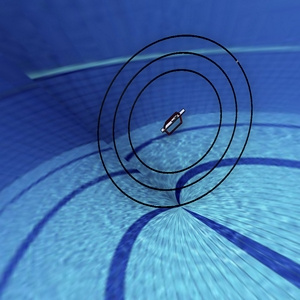circle: (85, 27, 266, 215)
submarine: (149, 99, 192, 140)
